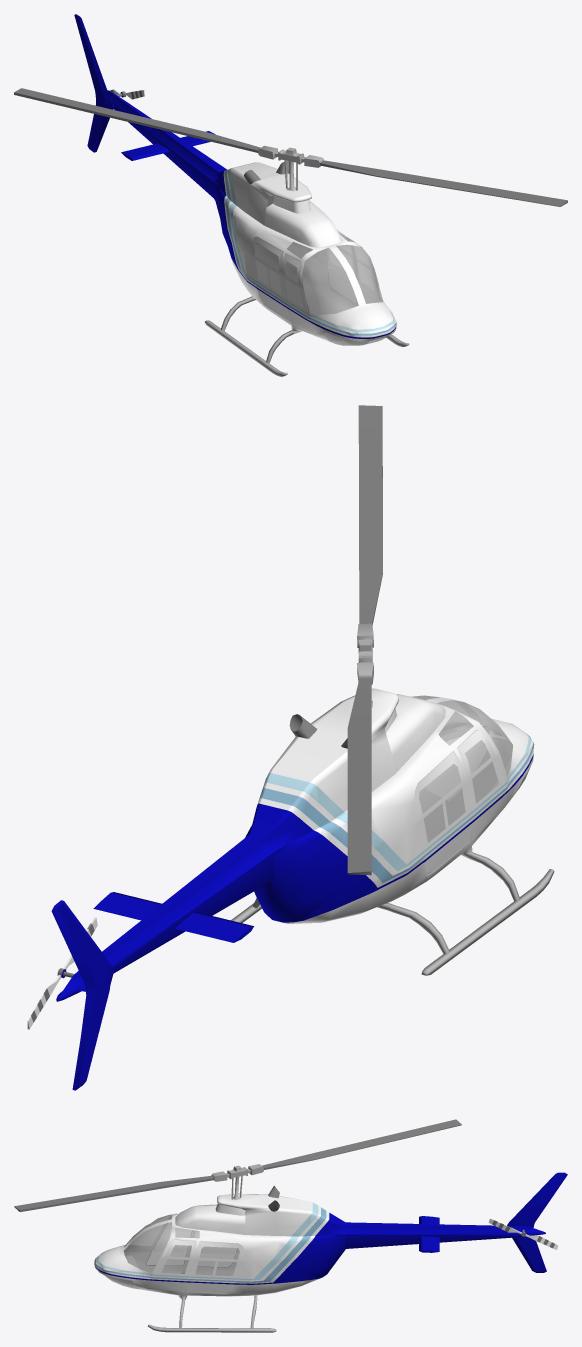
File: helicopter_742d79bd.glb
The picture shows the model from 3 angles, top to bottom: view 1: azimuth 30°, elevation 25°; view 2: azimuth 150°, elevation 25°; view 3: azimuth 270°, elevation 25°; orthographic projection. The views are drawn at different scales.
Parts seen in each view (by area): view 1: Material2 (×10), Material3 (×6); view 2: Material3 (×6), Material2 (×15); view 3: Material3 (×9), Material2 (×15).
Boxes of the visible parts, box(x1,y1,x2,y2) form: Material2 (×10): box(74, 14, 383, 376); Material3 (×6): box(14, 88, 567, 344); Material3 (×6): box(56, 405, 533, 1001); Material2 (×15): box(51, 623, 554, 1090); Material3 (×9): box(14, 1119, 545, 1298); Material2 (×15): box(107, 1164, 567, 1332).
Bounding box in the file's own units: 204 × 133 × 437.
